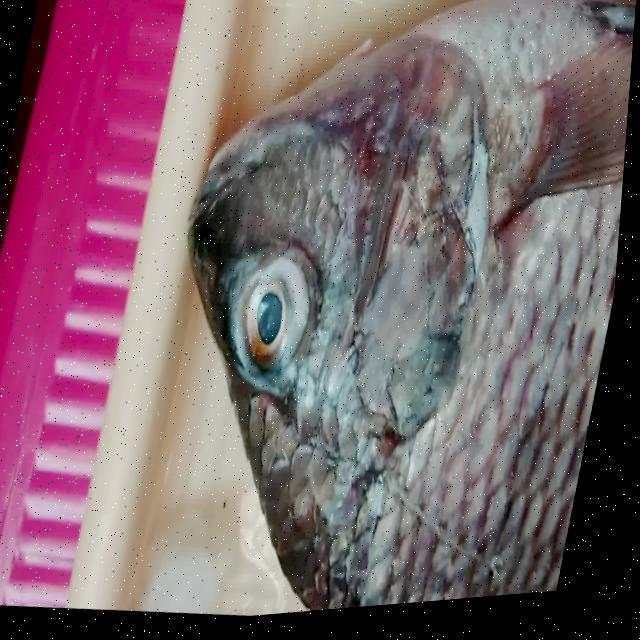Fresh: (221, 232, 334, 414)
